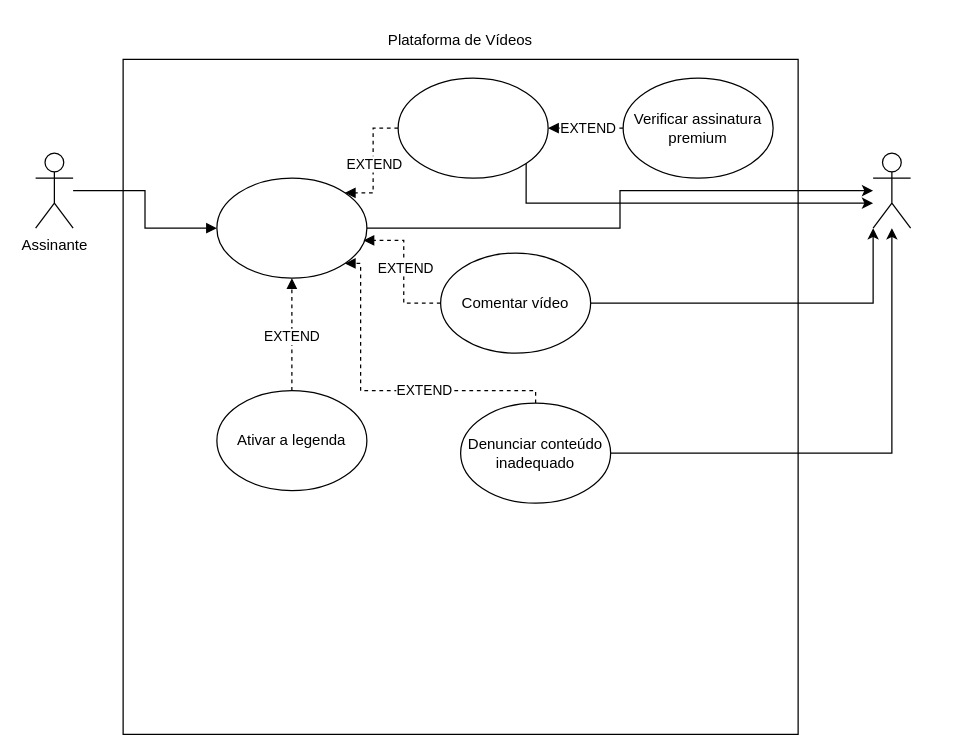
This 960x756 diagram has some shape labels left out. Here are the shapes that lost their labels. From the top down, the box of each, then its label:
(397, 77, 548, 178): Fazer download do vídeo
(872, 152, 911, 228): Administrador
(216, 177, 367, 278): Reproduzir vídeo
